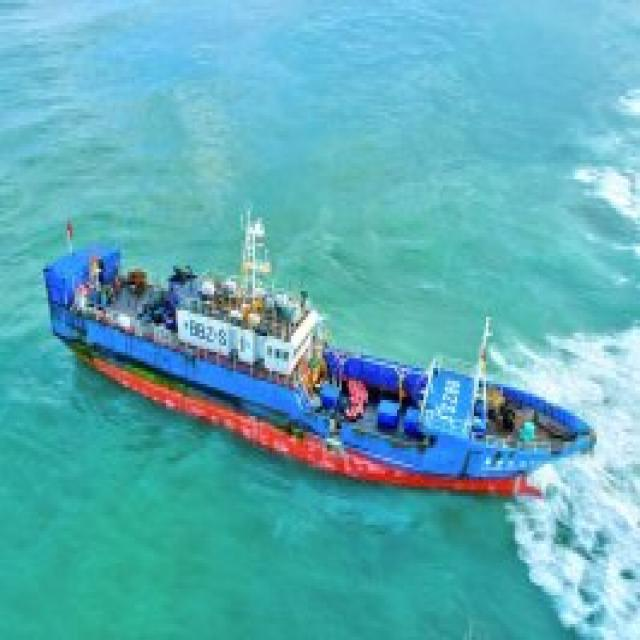Ship: (25, 199, 617, 526)
